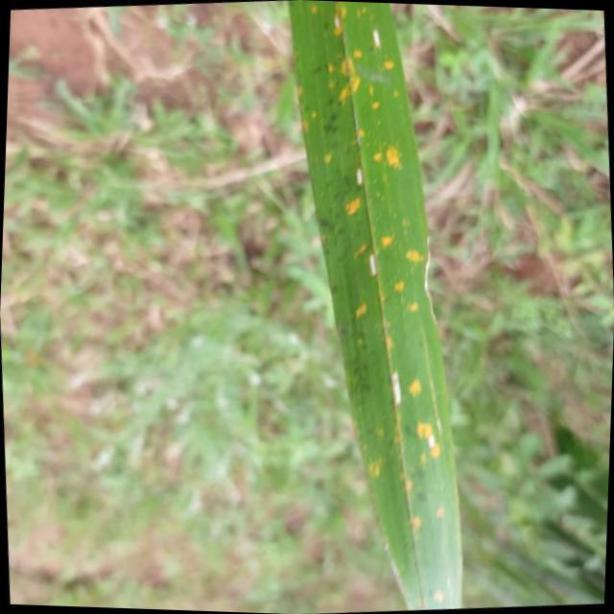Kalium: (286, 1, 465, 614)
